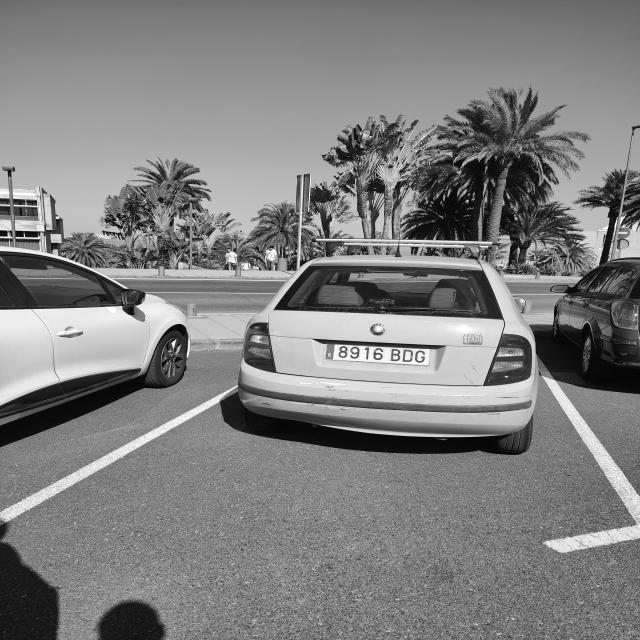License-Plate: (325, 343, 430, 368)
